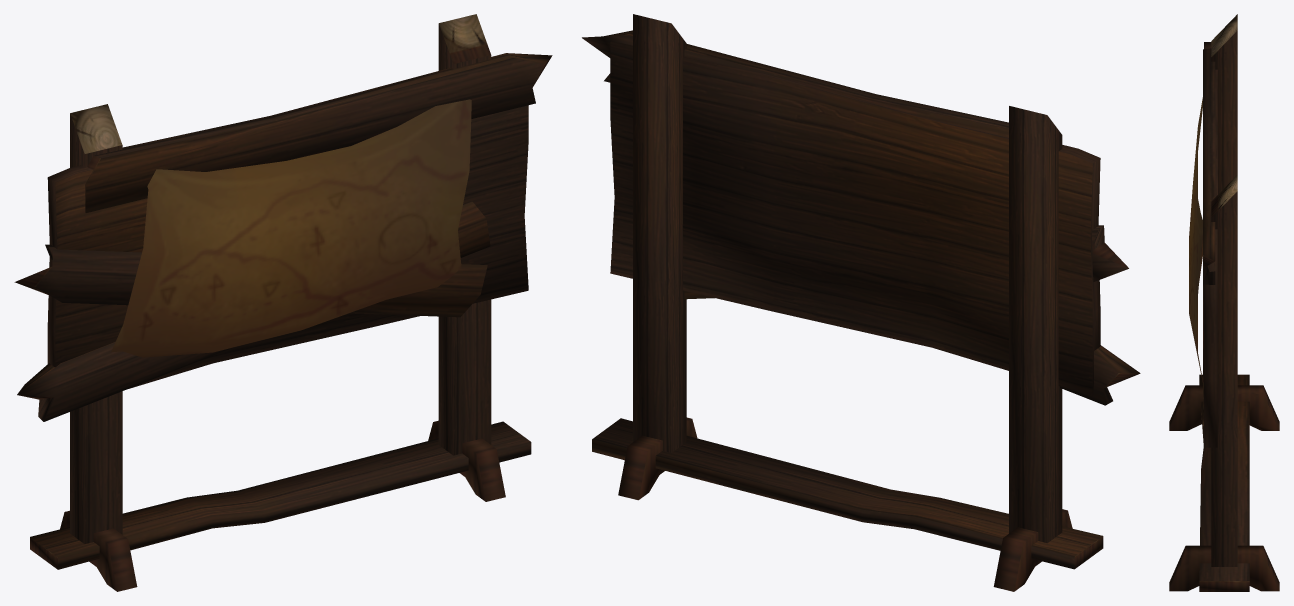
File: daliang_field_a_s05a.fbx
3 renders of one model, left to right at view 1: azimuth 30°, elevation 25°; view 2: azimuth 150°, elevation 25°; view 3: azimuth 270°, elevation 25°, orthographic. The views are drawn at different scales.
Parts seen in each view (by area): view 1: daliang_field_a_s05a; view 2: daliang_field_a_s05a; view 3: daliang_field_a_s05a.
Boxes of the visible parts, x1,y1,x2,y2 form: daliang_field_a_s05a: [14, 14, 552, 591]; daliang_field_a_s05a: [582, 14, 1140, 591]; daliang_field_a_s05a: [1169, 14, 1279, 591].
Bounding box in the file's own units: 424 × 338 × 83.79.
